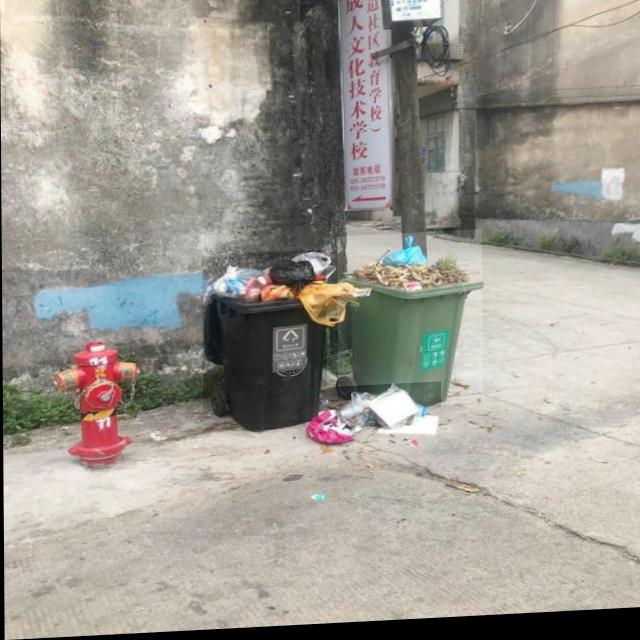garbage: (304, 386, 441, 449)
overflow: (337, 235, 482, 412), (202, 253, 327, 435)
